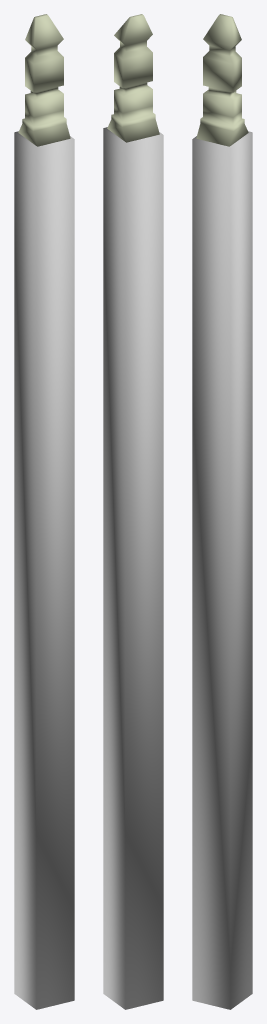
The model's file is skyscraper_withbase.obj.
3 views of the same model, side by side, from view 1: azimuth 30°, elevation 25°; view 2: azimuth 210°, elevation 25°; view 3: azimuth 330°, elevation 25° (orthographic).
Visible parts, largest first — view 1: cube2_default2, cube2_default; view 2: cube2_default2, cube2_default; view 3: cube2_default2, cube2_default.
Part boxes in pixels (x1,y1,x2,y2): cube2_default2: [14, 131, 74, 1009]; cube2_default: [18, 14, 70, 146]; cube2_default2: [103, 127, 163, 1009]; cube2_default: [107, 14, 159, 142]; cube2_default2: [192, 131, 252, 1009]; cube2_default: [196, 14, 248, 146].
Bounding box in the file's own units: 358 × 8777 × 358.
